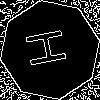H: (25, 25, 77, 69)
